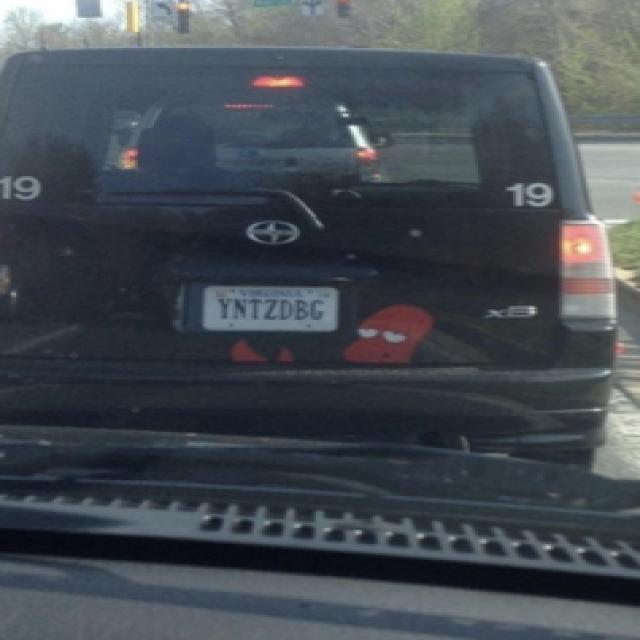license_plate: (205, 288, 340, 331)
